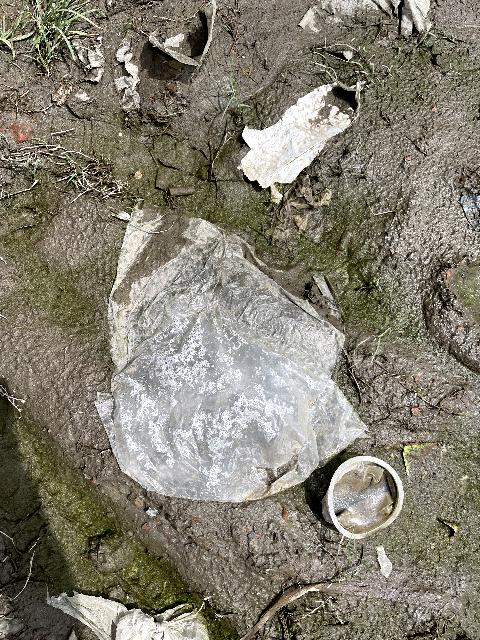polythene: (62, 257, 408, 479)
